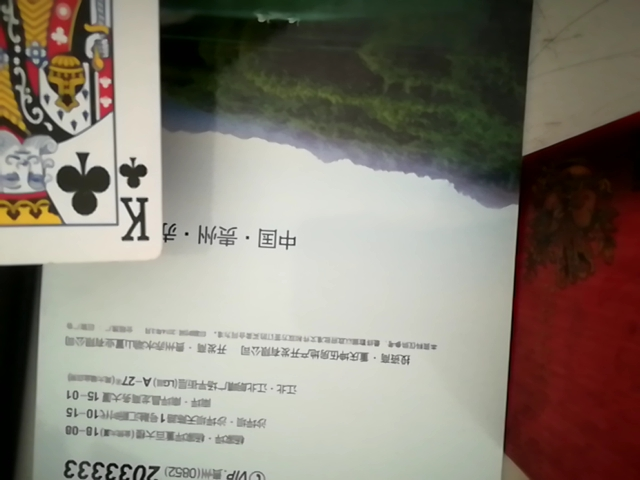mh k: (1, 0, 167, 287)
